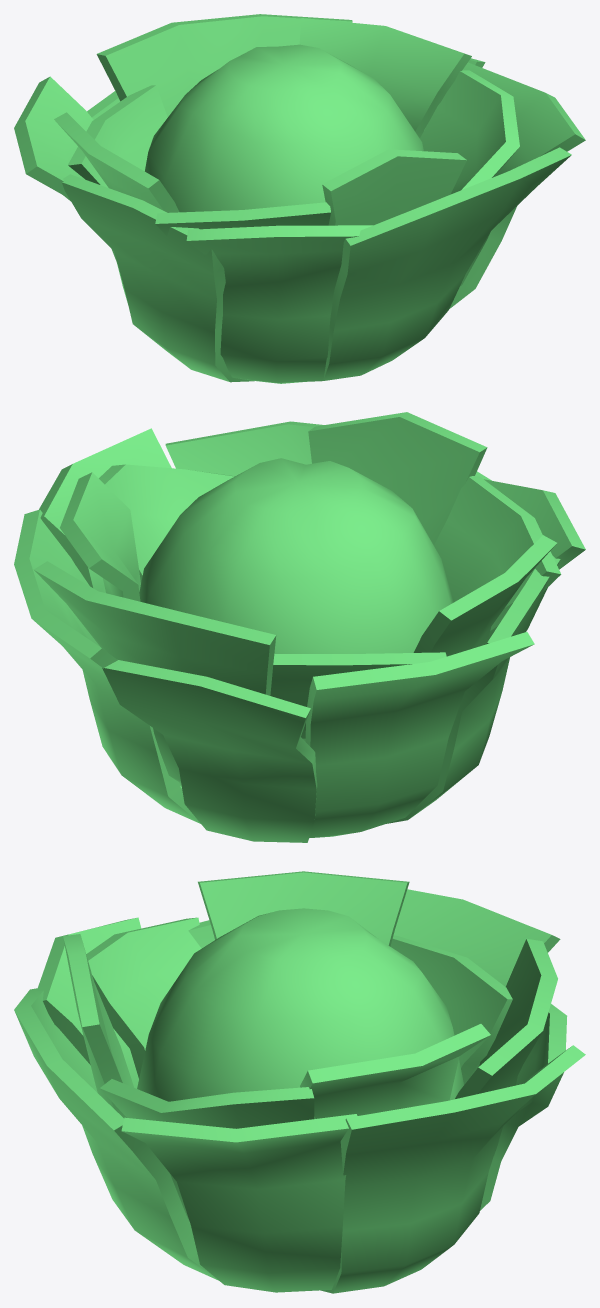
File: Cabbage.fbx
The picture shows the model from 3 angles, top to bottom: view 1: azimuth 30°, elevation 25°; view 2: azimuth 150°, elevation 25°; view 3: azimuth 270°, elevation 25°; orthographic projection. The views are drawn at different scales.
Parts seen in each view (by area): view 1: Cabbage; view 2: Cabbage; view 3: Cabbage.
Boxes of the visible parts, x1,y1,x2,y2 form: Cabbage: (14, 14, 585, 383); Cabbage: (14, 412, 585, 842); Cabbage: (14, 871, 585, 1293).
Bounding box in the file's own units: 163 × 97.73 × 151.
